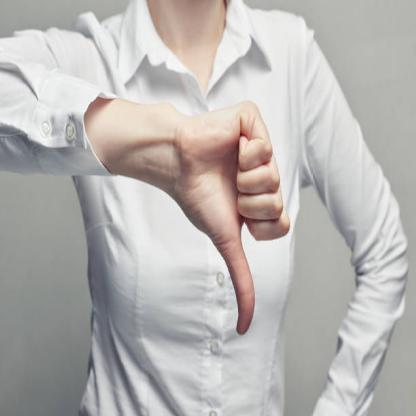thumb_down: (183, 95, 292, 340)
